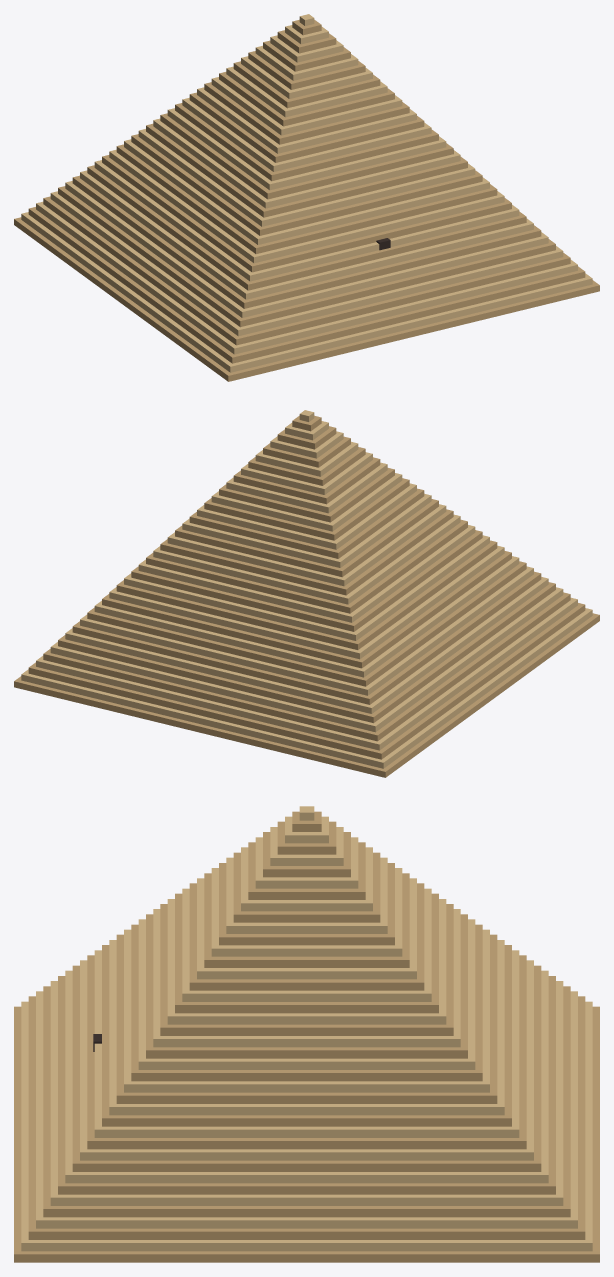
The model's file is pyramid_liten.glb.
3 renders of one model, top to bottom at view 1: azimuth 30°, elevation 25°; view 2: azimuth 150°, elevation 25°; view 3: azimuth 270°, elevation 25°, orthographic. The views are drawn at different scales.
Parts seen in each view (by area): view 1: pyramid_liten; view 2: pyramid_liten; view 3: pyramid_liten.
Boxes of the visible parts, x1,y1,x2,y2 form: pyramid_liten: (14,14,599,381); pyramid_liten: (14,410,599,777); pyramid_liten: (14,806,599,1262).
Bounding box in the file's own units: 100 × 62 × 100.
